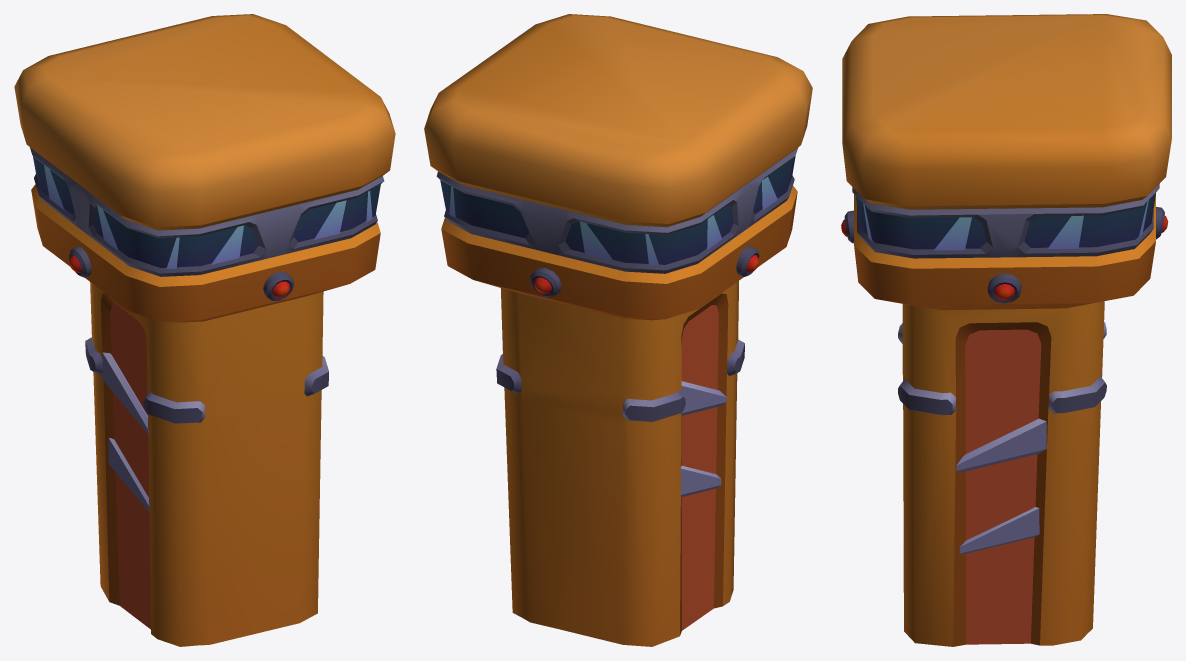
File: SM_Platform_Tower_03.fbx
The picture shows the model from 3 angles, left to right: view 1: azimuth 30°, elevation 25°; view 2: azimuth 150°, elevation 25°; view 3: azimuth 270°, elevation 25°; orthographic projection. The views are drawn at different scales.
Visible parts, largest first — view 1: SM_Platform_Tower_03; view 2: SM_Platform_Tower_03; view 3: SM_Platform_Tower_03.
Boxes of the visible parts, box(x1,y1,x2,y2) form: SM_Platform_Tower_03: box(14, 14, 395, 646); SM_Platform_Tower_03: box(424, 14, 812, 646); SM_Platform_Tower_03: box(841, 14, 1171, 646).
Bounding box in the file's own units: 9.97 × 17.99 × 10.05.
